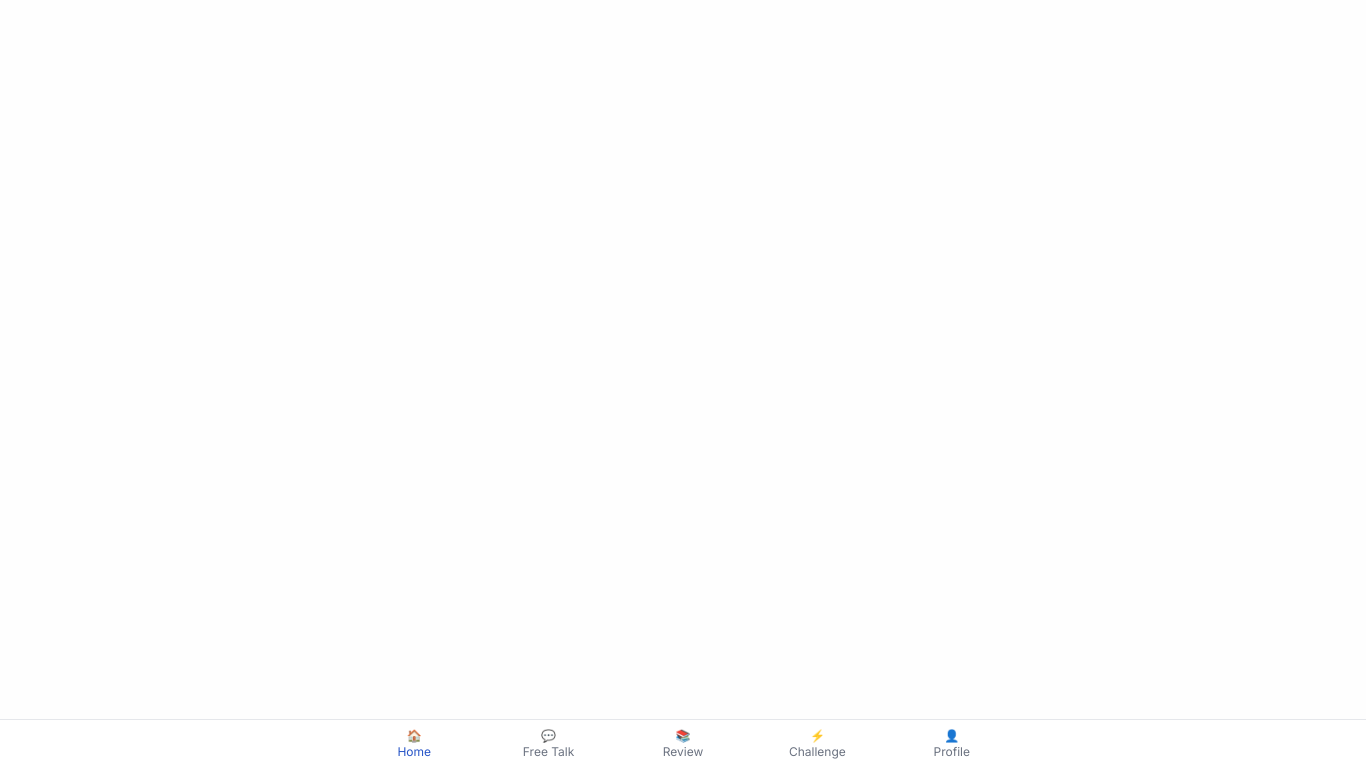
it: TutorFooterNav › Got It button closes the sheet
Click the text "Review": (683, 752) x1=663 y1=744 x2=703 y2=760
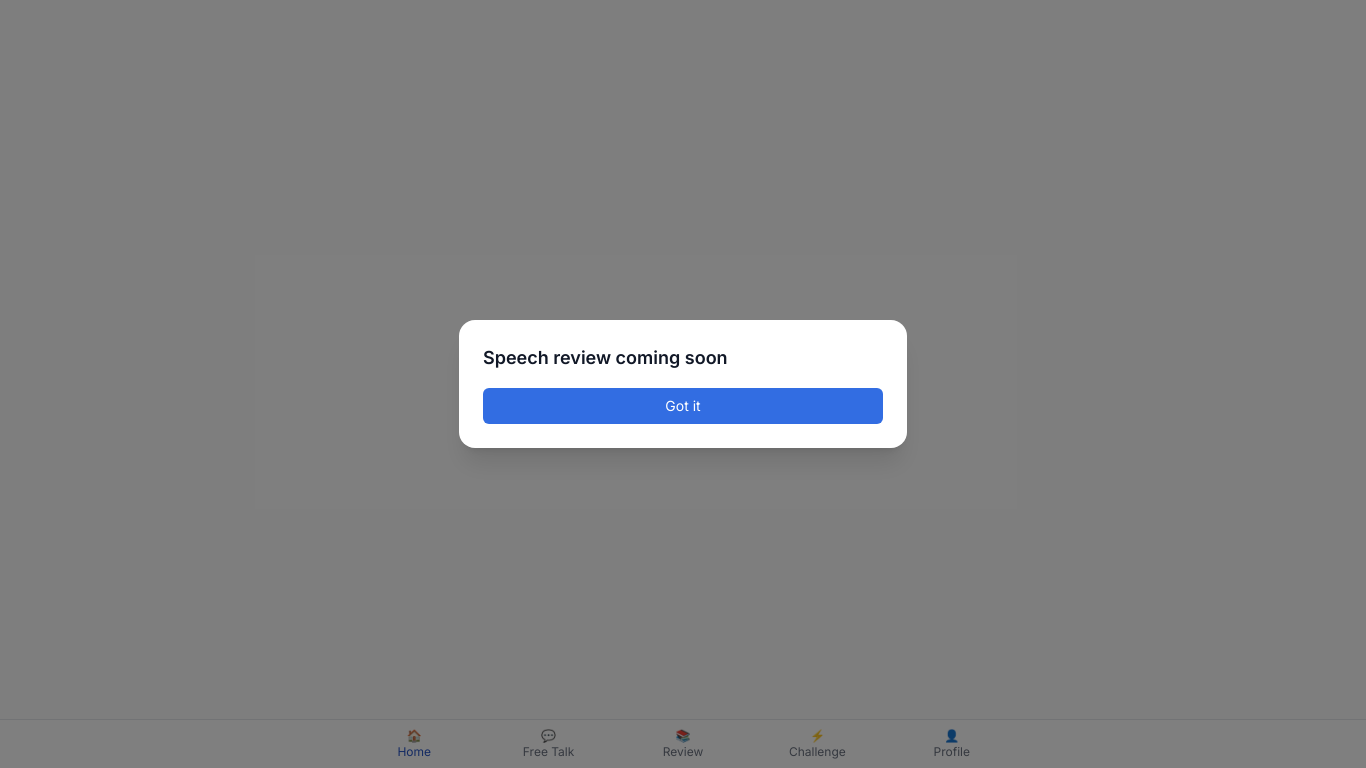
Expected: the heading "Speech review coming soon" is shown, x1=483 y1=347 x2=728 y2=368
Click the button "Got it": (683, 406) x1=483 y1=388 x2=883 y2=424
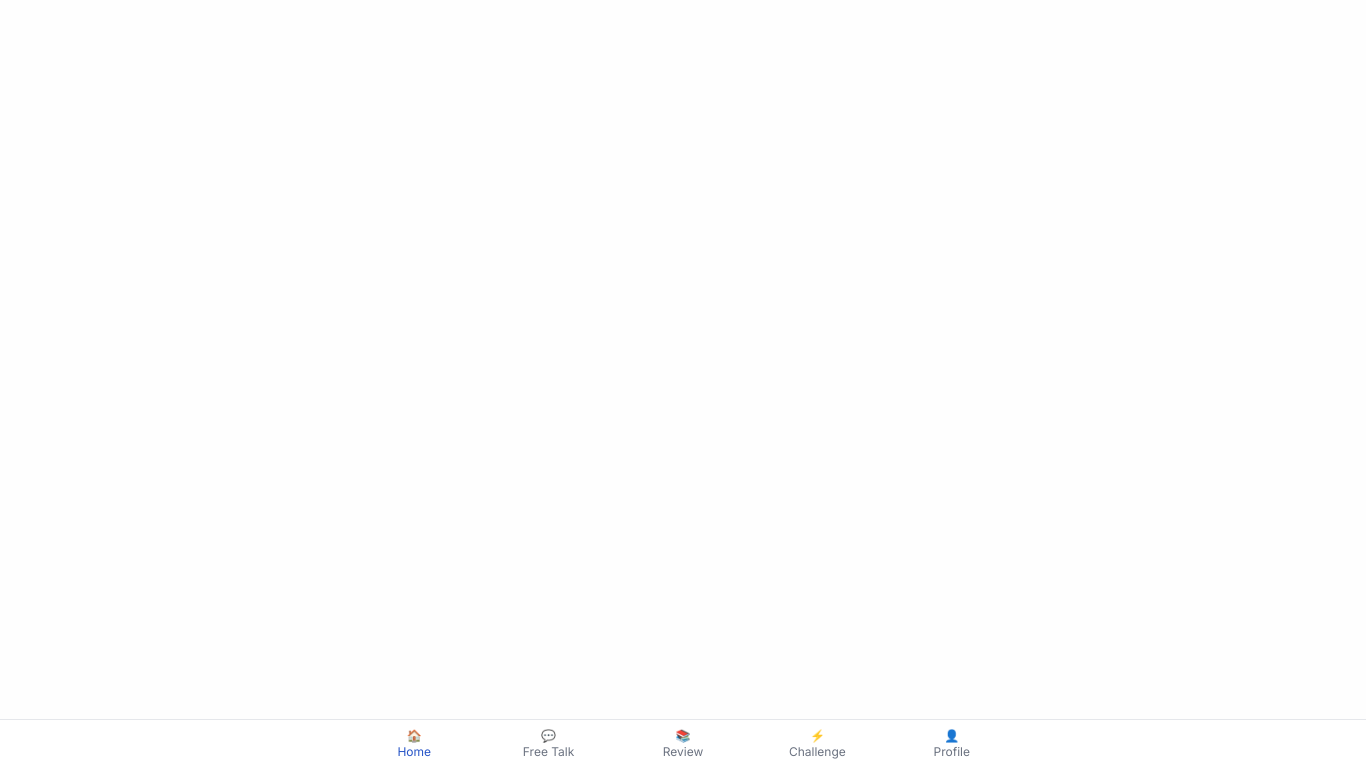
Expected: the heading "Speech review coming soon" is gone
